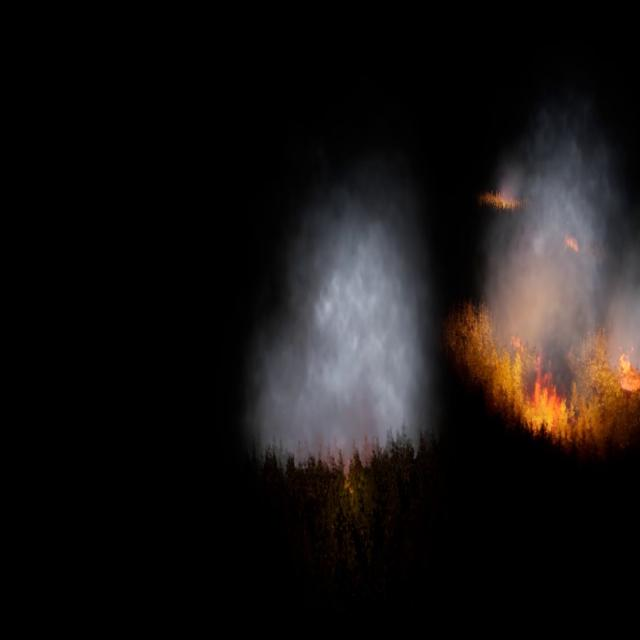fire: (452, 304, 639, 452), (481, 188, 526, 215), (562, 228, 577, 250)
smoke: (240, 159, 440, 459), (476, 98, 640, 396)
